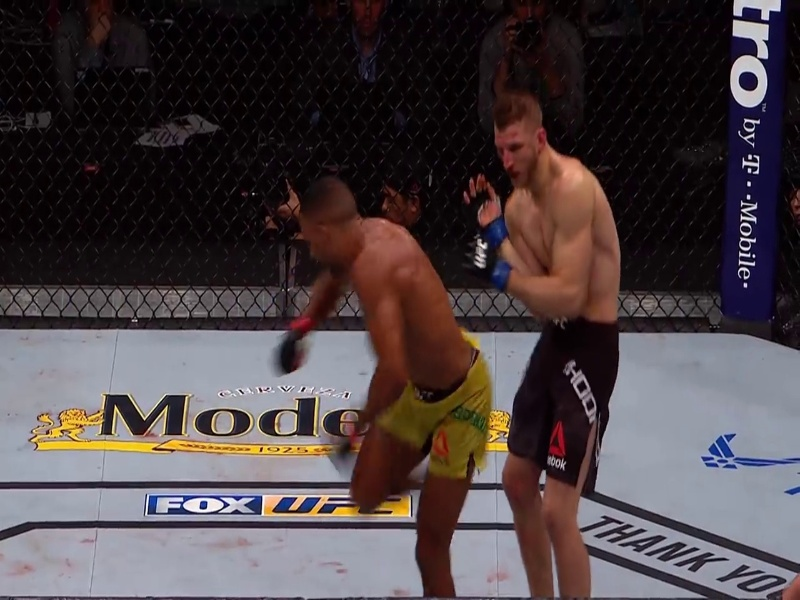fighter: (252, 177, 492, 600), (451, 79, 629, 600)
